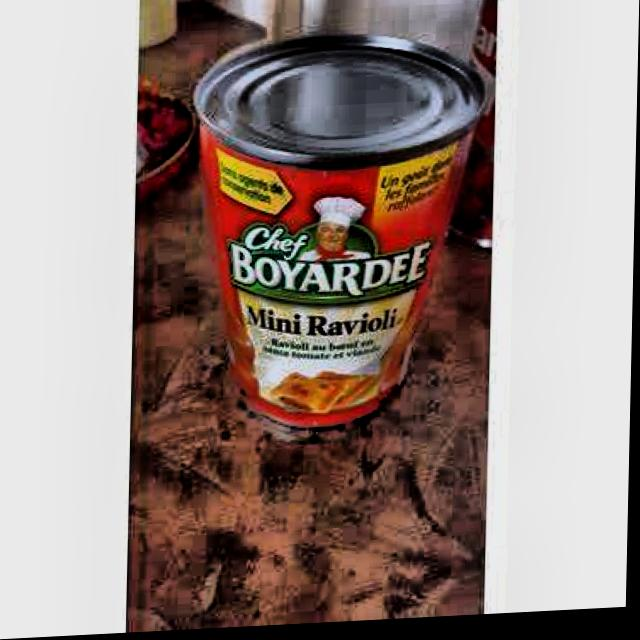Cans: (173, 19, 486, 447)
